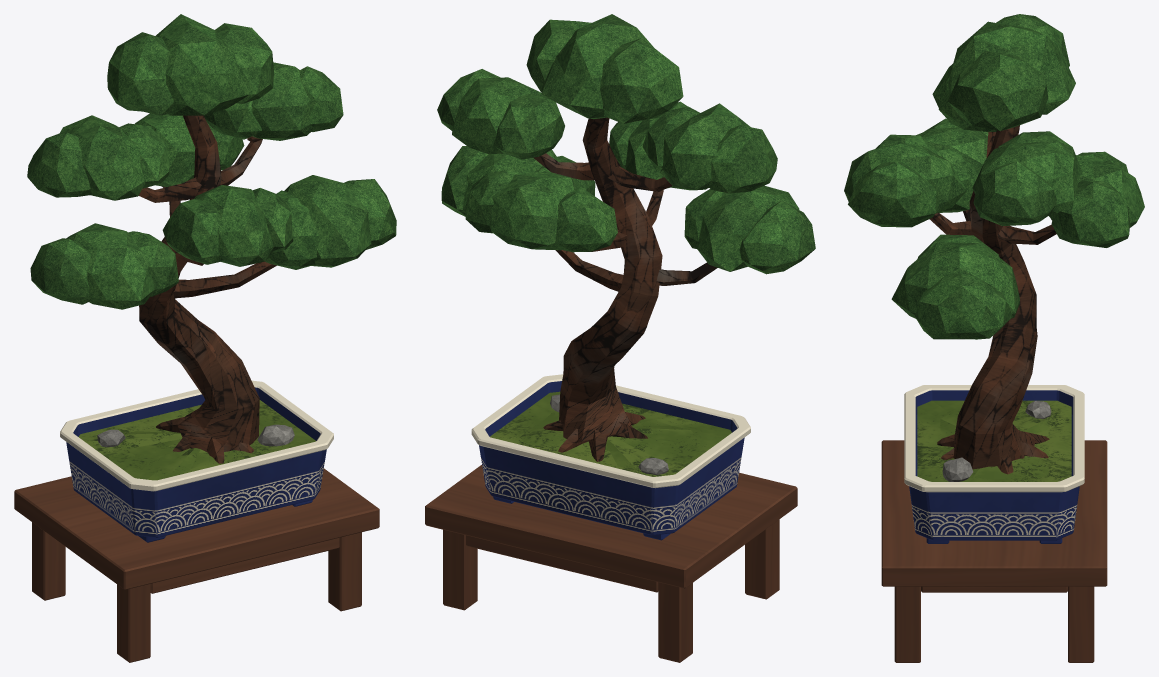
File: 07_Bonsai.fbx
3 views of the same model, side by side, from view 1: azimuth 30°, elevation 25°; view 2: azimuth 150°, elevation 25°; view 3: azimuth 270°, elevation 25° (orthographic).
Parts seen in each view (by area): view 1: SM_07_Follaje, SM_07_Dai, SM_07_Maceta, SM_07_Tronco, SM_07_Sustrato; view 2: SM_07_Follaje, SM_07_Dai, SM_07_Maceta, SM_07_Tronco, SM_07_Sustrato; view 3: SM_07_Follaje, SM_07_Dai, SM_07_Maceta, SM_07_Tronco, SM_07_Sustrato.
Boxes of the visible parts, x1=… form: SM_07_Follaje: x1=27, y1=14, x2=396, y2=309; SM_07_Dai: x1=14, y1=468, x2=379, y2=662; SM_07_Maceta: x1=60, y1=380, x2=333, y2=542; SM_07_Tronco: x1=138, y1=115, x2=276, y2=463; SM_07_Sustrato: x1=78, y1=400, x2=315, y2=480; SM_07_Follaje: x1=437, y1=14, x2=815, y2=274; SM_07_Dai: x1=425, y1=465, x2=797, y2=662; SM_07_Maceta: x1=471, y1=374, x2=750, y2=540; SM_07_Tronco: x1=533, y1=117, x2=717, y2=461; SM_07_Sustrato: x1=490, y1=391, x2=731, y2=476; SM_07_Follaje: x1=844, y1=14, x2=1144, y2=339; SM_07_Dai: x1=881, y1=440, x2=1107, y2=662; SM_07_Maceta: x1=904, y1=385, x2=1084, y2=543; SM_07_Tronco: x1=929, y1=125, x2=1056, y2=474; SM_07_Sustrato: x1=917, y1=400, x2=1071, y2=481.
Bounding box in the file's own units: 0.55 × 0.85 × 0.4.
